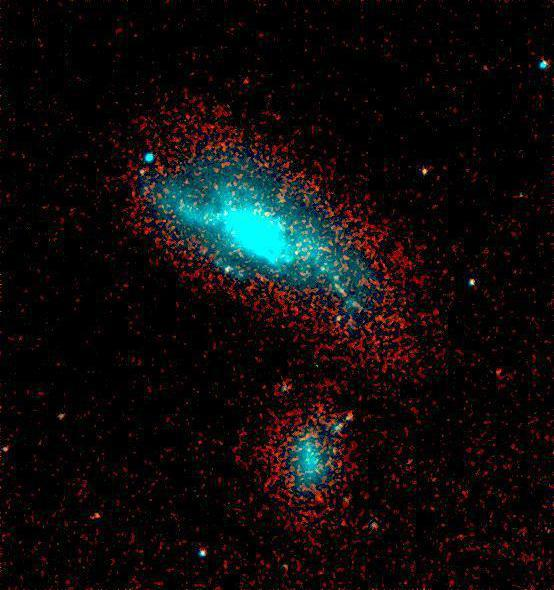star: (231, 65, 261, 95)
